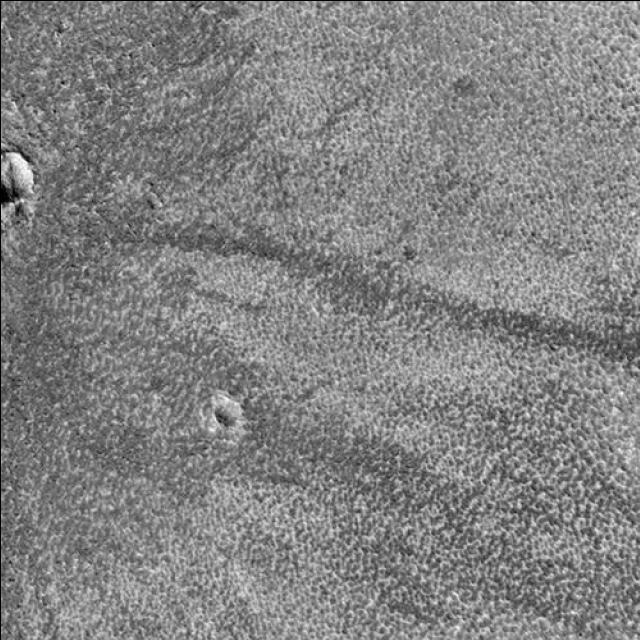crater: (0, 114, 101, 290), (198, 382, 258, 438), (0, 507, 24, 571)
